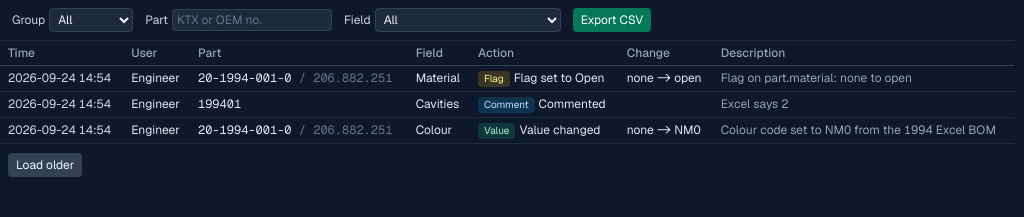
WorksheetAuditView › loads older entries with before_id
Expected: the row with test id "audit-row-7" is shown, [0,118,1014,144]
Click the button with test id "audit-load-older" at (45, 165), box [8,153,82,177]
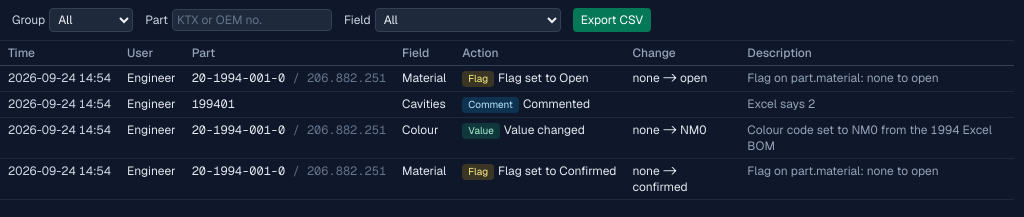
Now the row with test id "audit-row-3" is shown, box [0,159,1014,200]
Now the button with test id "audit-load-older" is gone
